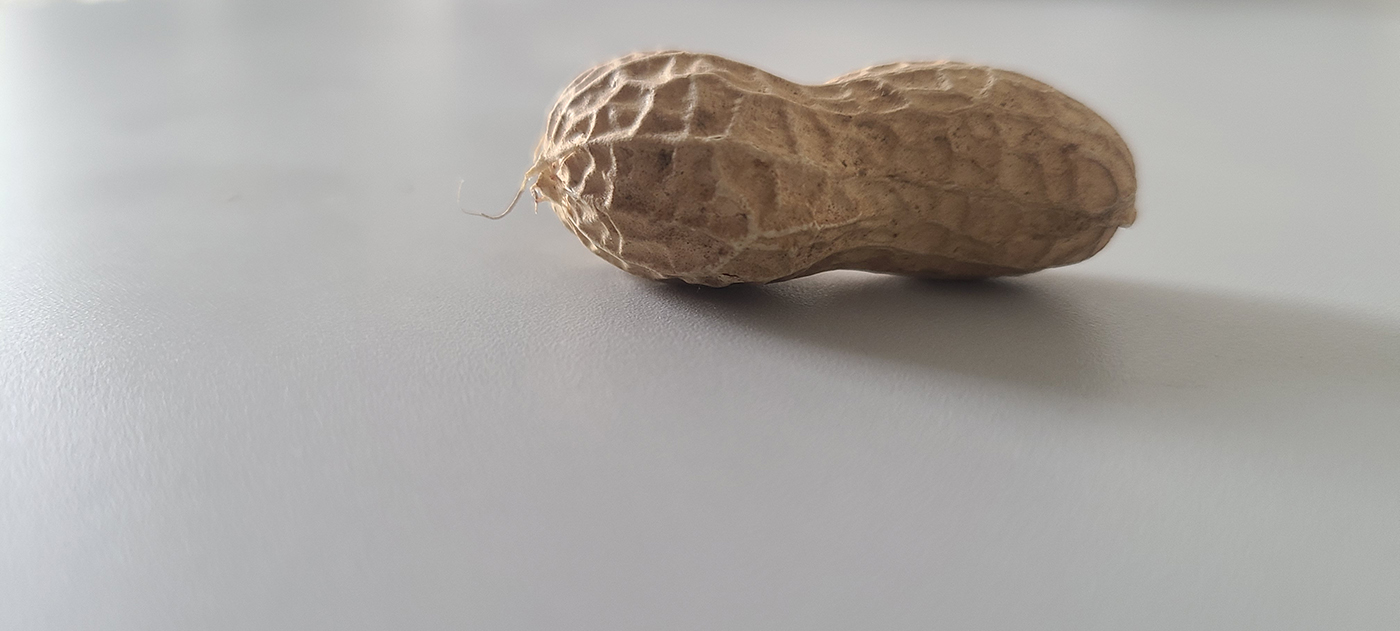h: (526, 44, 1140, 285)
